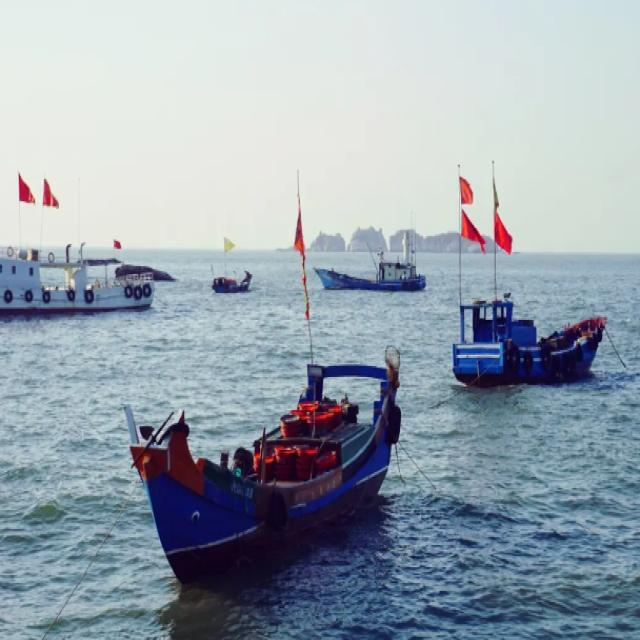fishing boat: (130, 332, 403, 580), (448, 274, 622, 388), (321, 230, 428, 287), (211, 261, 252, 289)
houseboat: (0, 239, 156, 315)
